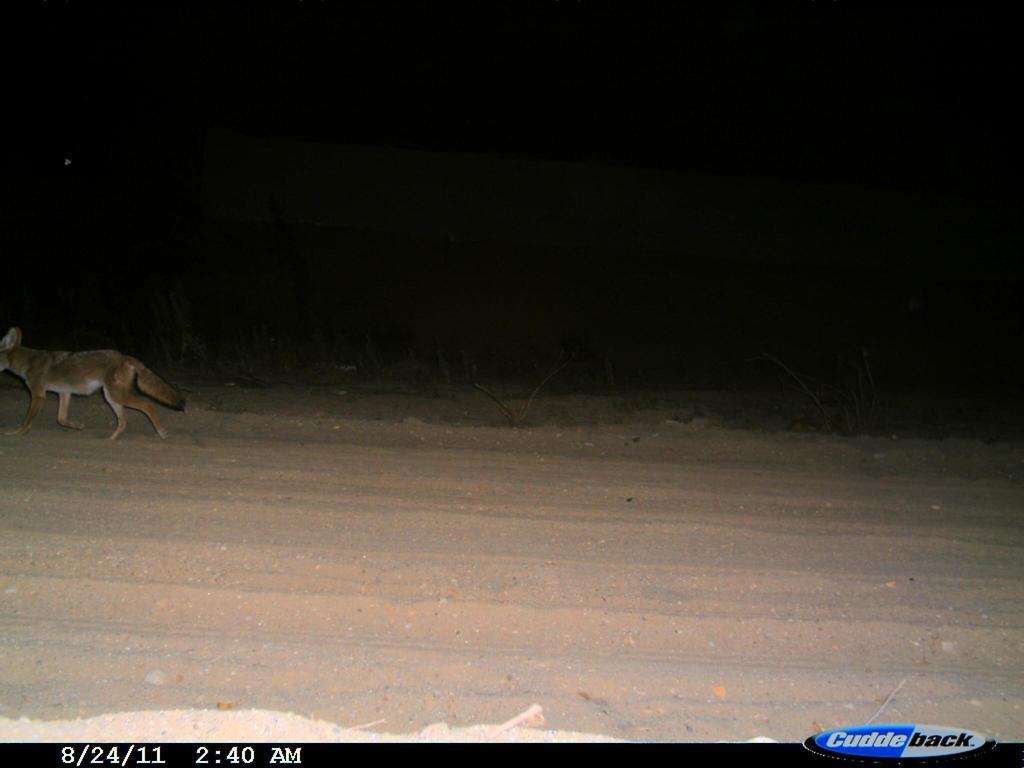coyote: (1, 318, 189, 454)
